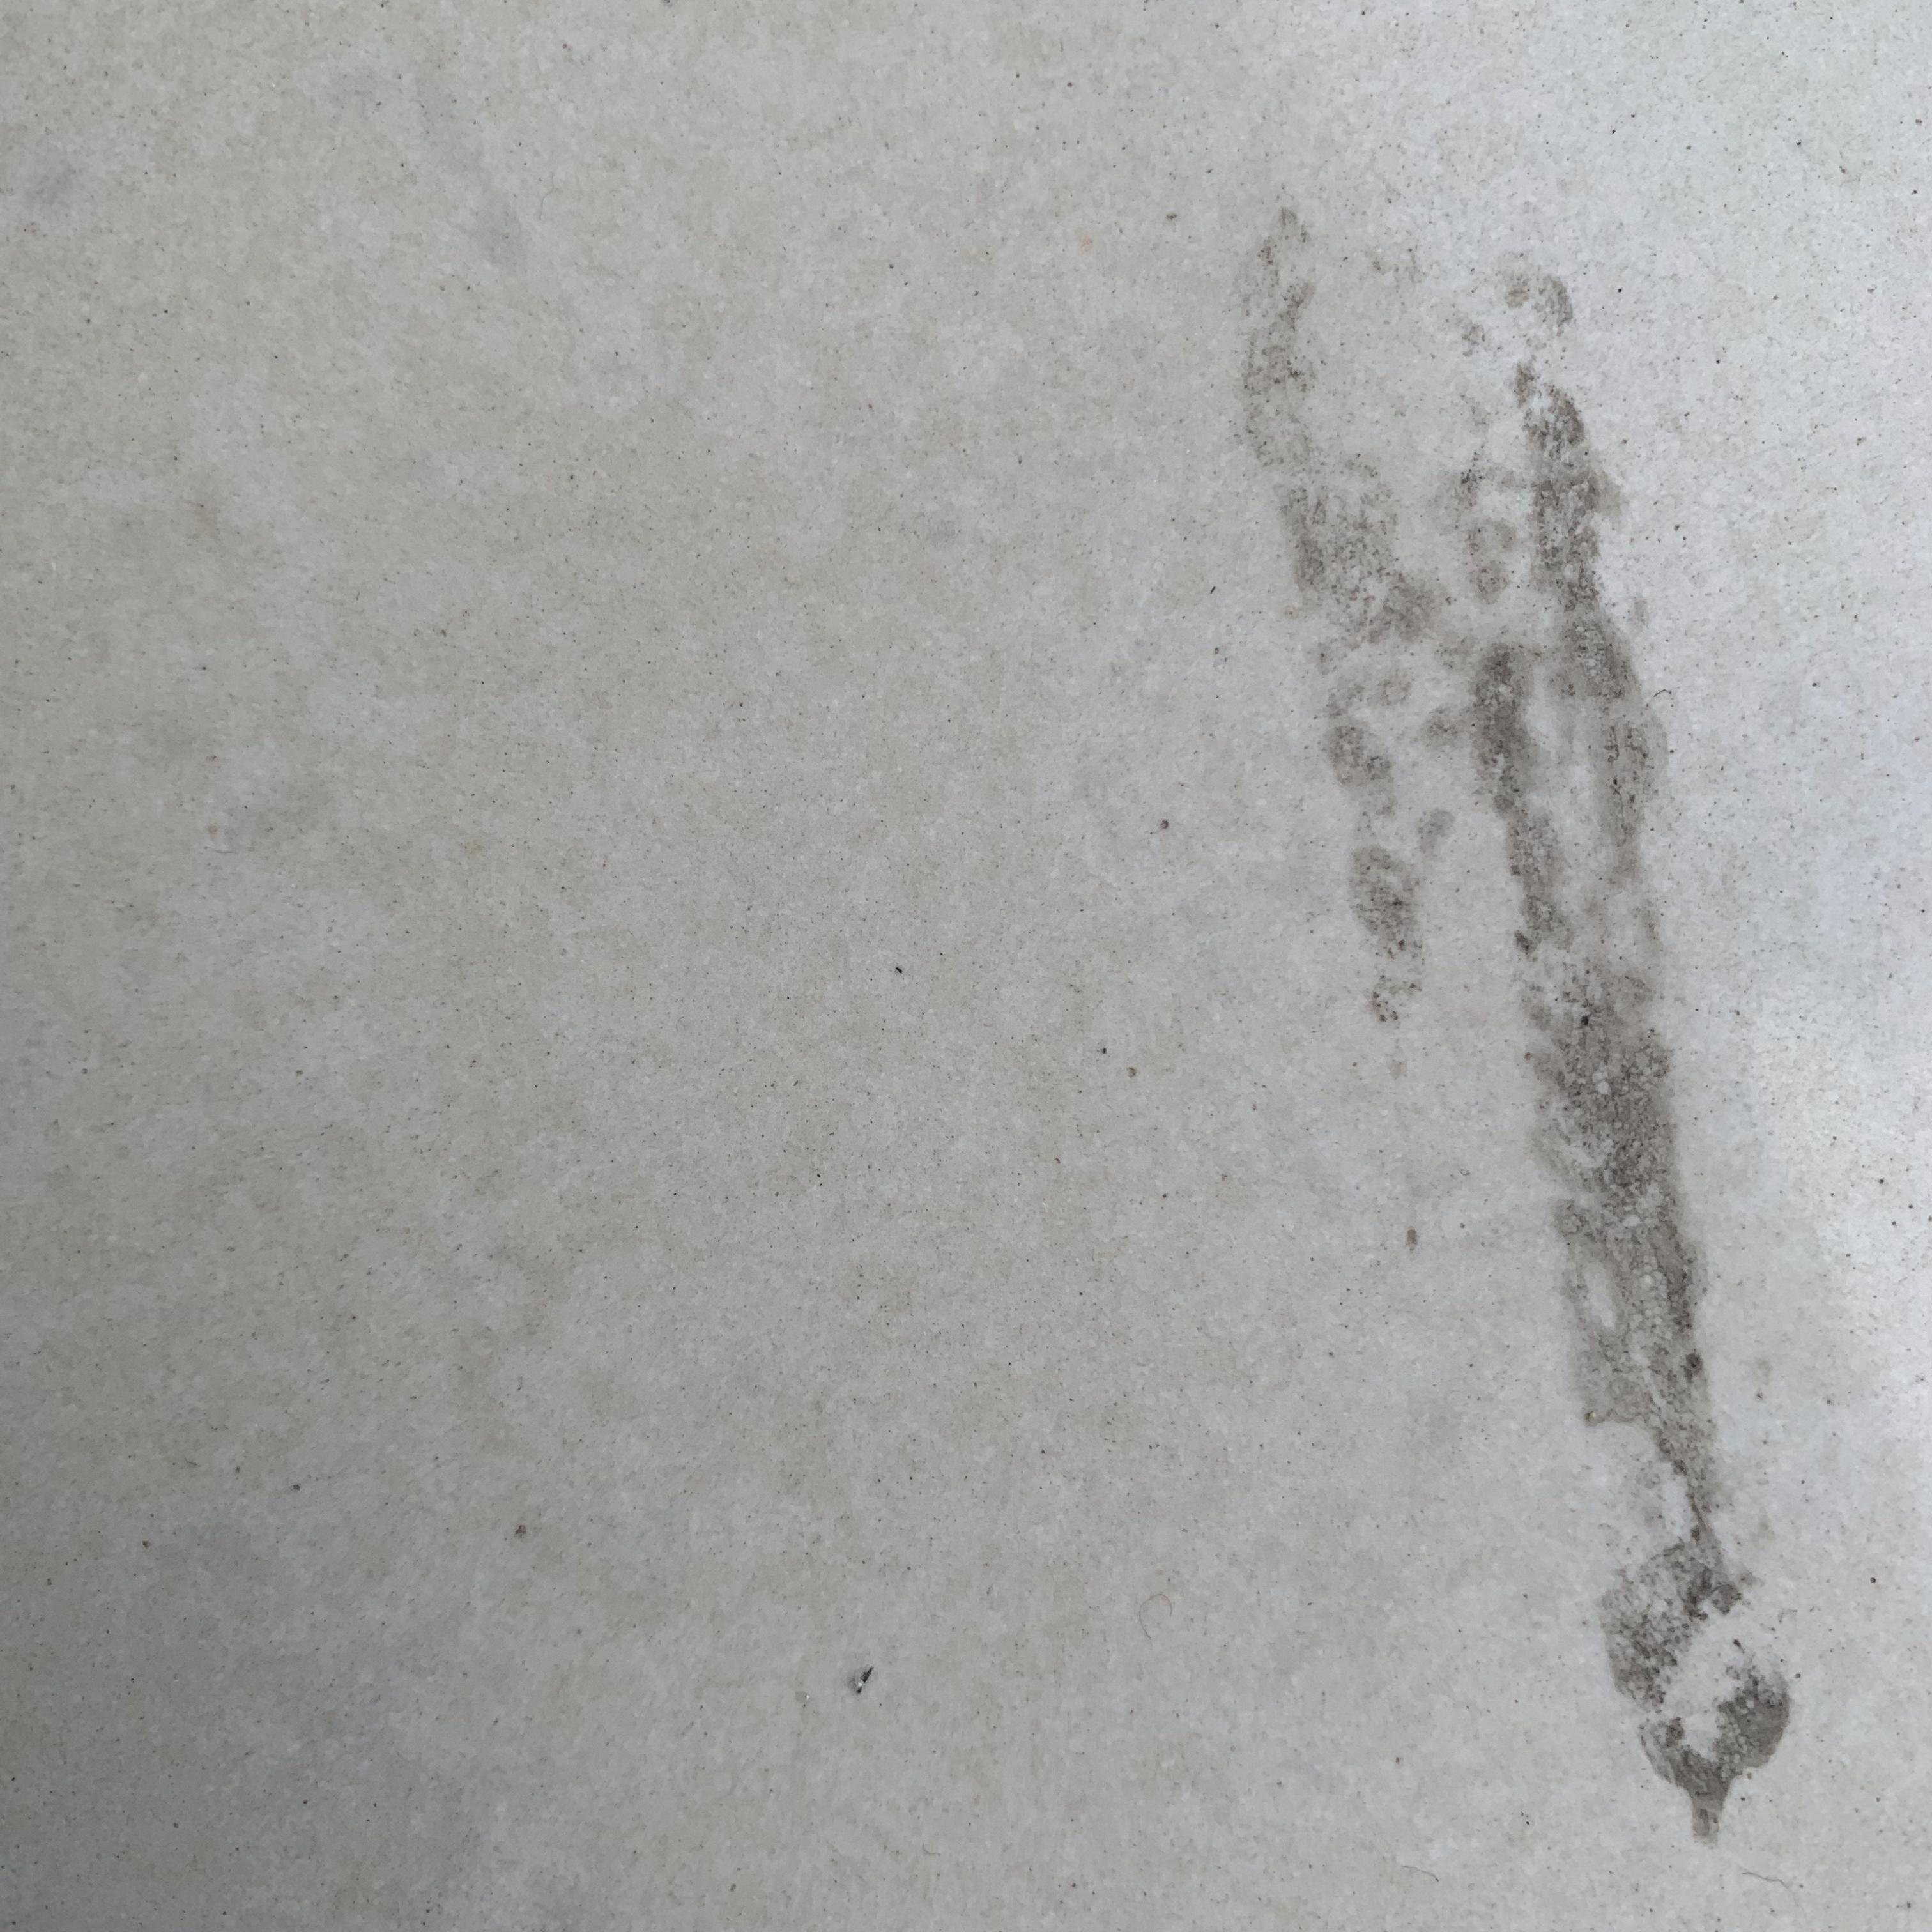grey spot: (1240, 209, 1792, 1845)
